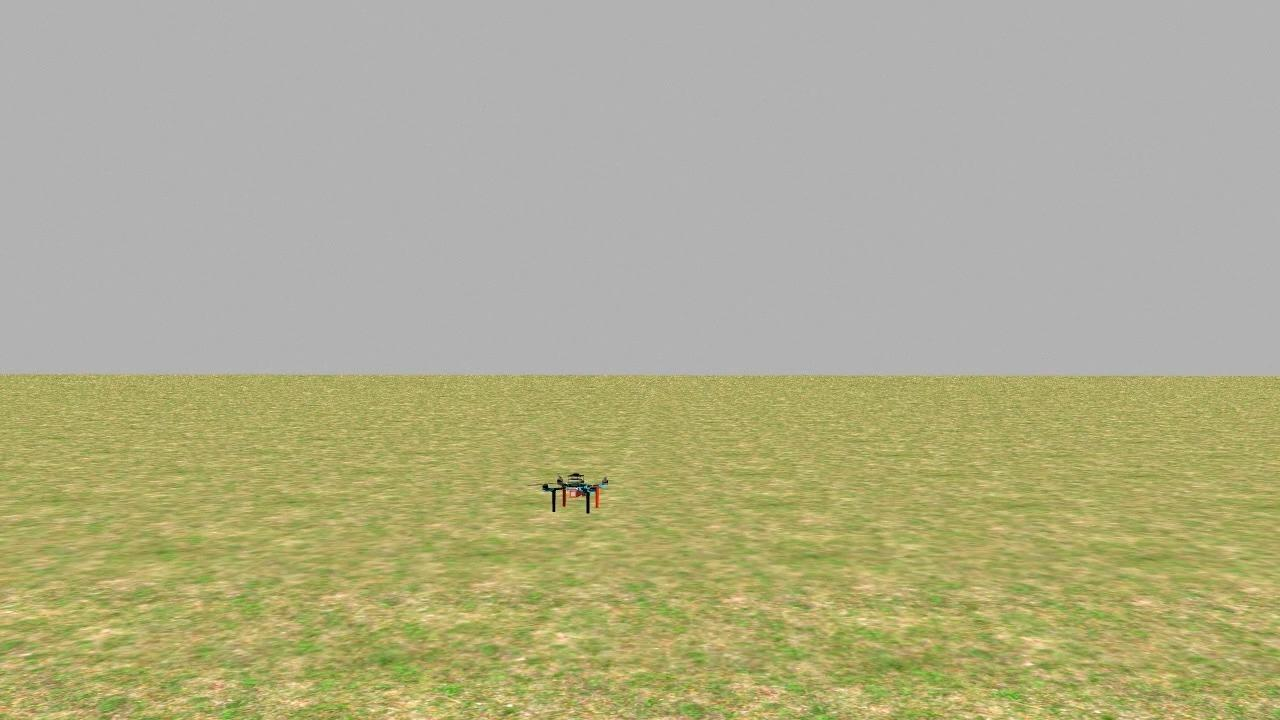UAV: (532, 456, 618, 524)
